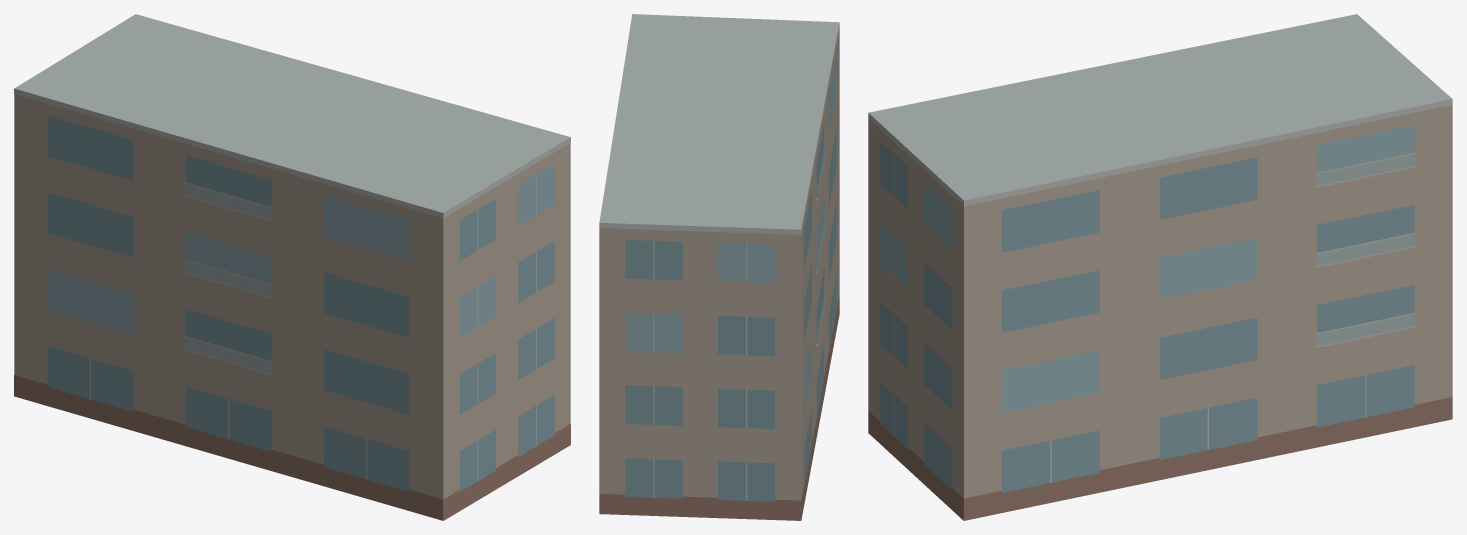
The model's file is survey-upis-32641287.glb.
The picture shows the model from 3 angles, left to right: view 1: azimuth 30°, elevation 25°; view 2: azimuth 150°, elevation 25°; view 3: azimuth 270°, elevation 25°; orthographic projection. The views are drawn at different scales.
Parts seen in each view (by area): view 1: survey-upis-32641287.tmp; view 2: survey-upis-32641287.tmp; view 3: survey-upis-32641287.tmp.
Part boxes in pixels (x1=…): survey-upis-32641287.tmp: x1=14, y1=14, x2=570, y2=520; survey-upis-32641287.tmp: x1=599, y1=14, x2=839, y2=520; survey-upis-32641287.tmp: x1=868, y1=14, x2=1452, y2=520.
Bounding box in the file's own units: 17 × 13.6 × 22.5.
